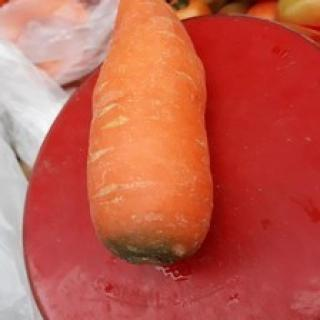carrot: (85, 0, 211, 263)
